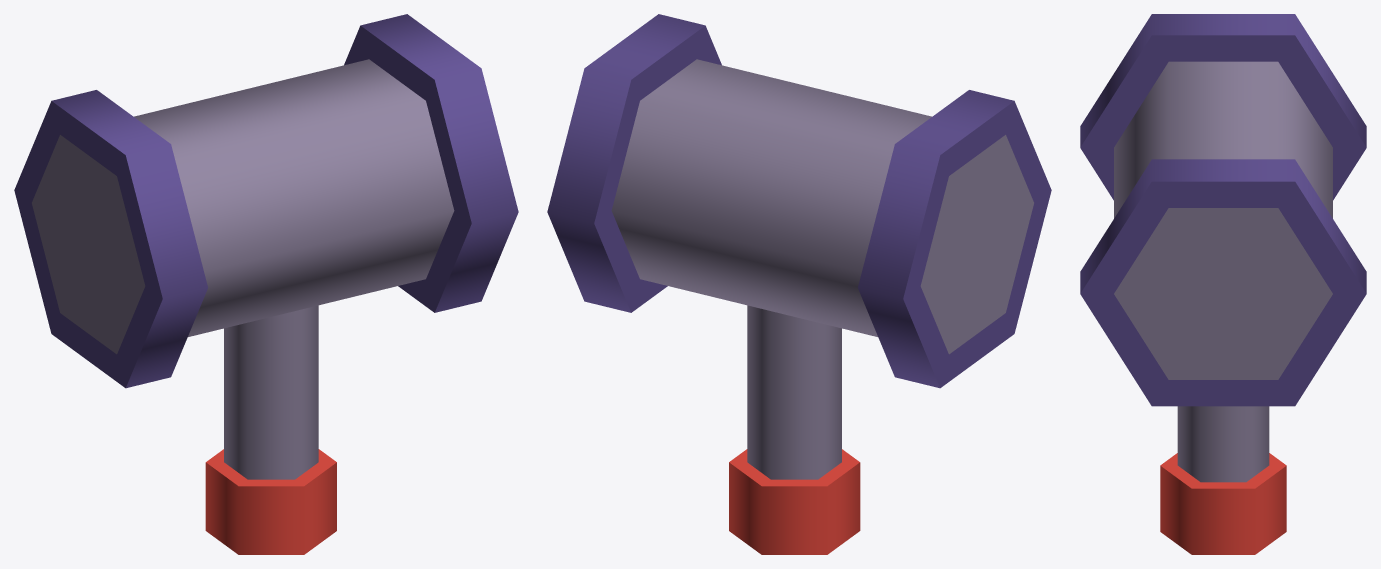
Rendered from bambam.fbx.
3 views of the same model, side by side, from view 1: azimuth 30°, elevation 25°; view 2: azimuth 150°, elevation 25°; view 3: azimuth 270°, elevation 25° (orthographic). The views are drawn at different scales.
Visible parts, largest first — view 1: bambam; view 2: bambam; view 3: bambam.
Boxes of the visible parts, bbox=[...] form: bambam: bbox=[14, 14, 518, 554]; bambam: bbox=[547, 14, 1051, 554]; bambam: bbox=[1080, 14, 1366, 554].
Size of the model in its own units: 0.2835 by 0.3407 by 0.205.
